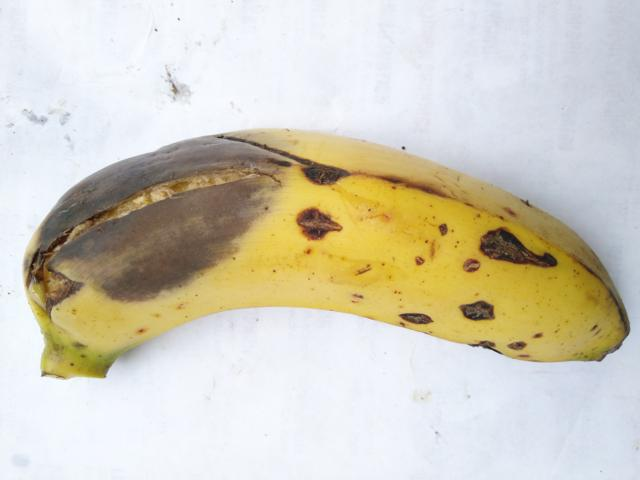rotten: (32, 101, 289, 319), (442, 199, 563, 282), (286, 136, 360, 196), (272, 193, 350, 245), (446, 280, 508, 325), (392, 296, 444, 347), (470, 328, 539, 365)
